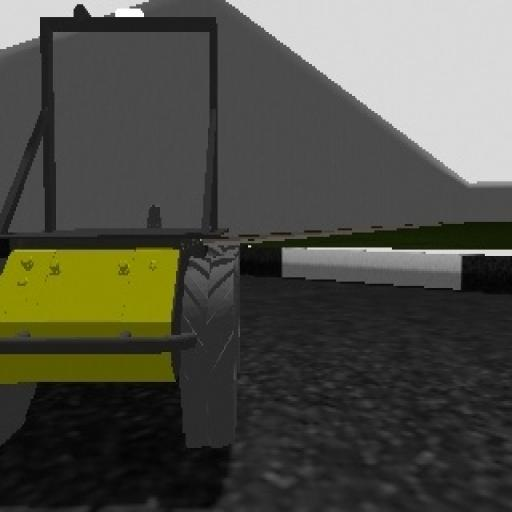huskya200: (3, 0, 245, 467)
